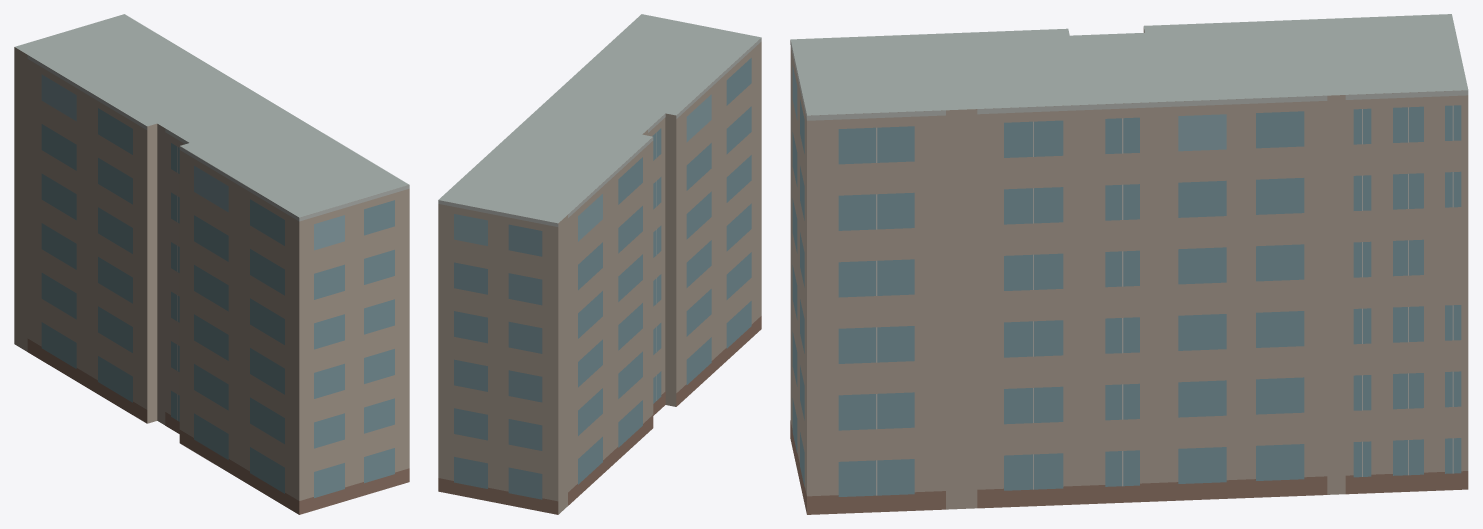
File: survey-upis-33015872.glb
The picture shows the model from 3 angles, left to right: view 1: azimuth 30°, elevation 25°; view 2: azimuth 150°, elevation 25°; view 3: azimuth 270°, elevation 25°; orthographic projection. The views are drawn at different scales.
Visible parts, largest first — view 1: survey-upis-33015872.tmp; view 2: survey-upis-33015872.tmp; view 3: survey-upis-33015872.tmp.
Boxes of the visible parts, x1=… form: survey-upis-33015872.tmp: x1=14, y1=14, x2=409, y2=514; survey-upis-33015872.tmp: x1=438, y1=14, x2=761, y2=514; survey-upis-33015872.tmp: x1=790, y1=14, x2=1468, y2=514.
Size of the model in its own units: 10.21 by 18.7 by 28.78.
